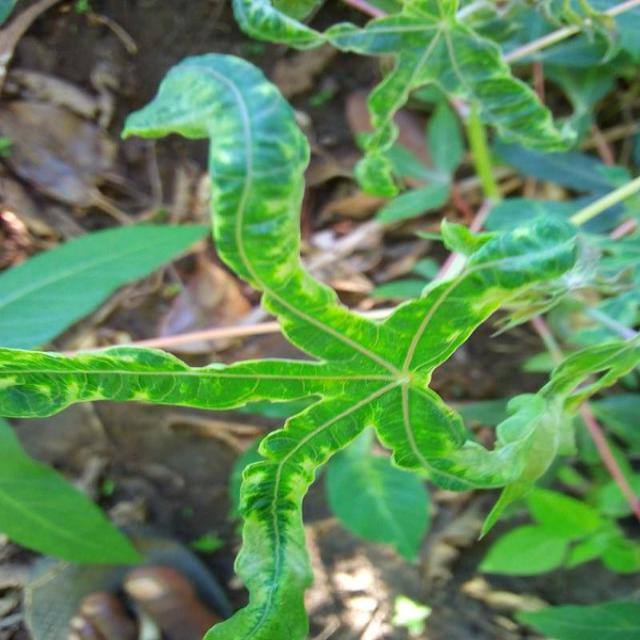cassava leaf: (2, 48, 606, 638)
